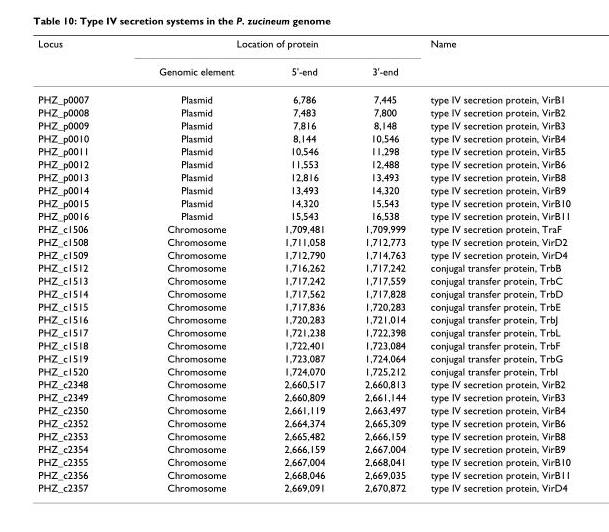table: (37, 36, 570, 493)
table column: (417, 36, 570, 493), (123, 36, 258, 493), (37, 36, 123, 493), (258, 36, 344, 493), (344, 36, 417, 493)
table column header: (37, 36, 570, 85)
table row: (37, 57, 570, 85), (37, 36, 570, 57), (37, 85, 570, 105), (37, 105, 570, 118), (37, 118, 570, 131), (37, 131, 570, 144), (37, 144, 570, 157), (37, 157, 570, 170), (37, 170, 570, 183), (37, 183, 570, 196), (37, 196, 570, 209), (37, 209, 570, 222), (37, 222, 570, 235), (37, 235, 570, 248), (37, 260, 570, 273), (37, 273, 570, 286), (37, 286, 570, 299), (37, 299, 570, 312), (37, 312, 570, 325), (37, 325, 570, 338), (37, 338, 570, 351), (37, 351, 570, 364), (37, 364, 570, 377), (37, 377, 570, 390), (37, 390, 570, 403), (37, 403, 570, 416), (37, 416, 570, 429), (37, 429, 570, 442), (37, 442, 570, 455), (37, 455, 570, 468), (37, 480, 570, 493), (37, 248, 570, 260), (37, 468, 570, 480)
table spanning cell: (417, 36, 570, 85), (123, 36, 417, 57), (37, 36, 123, 85)
